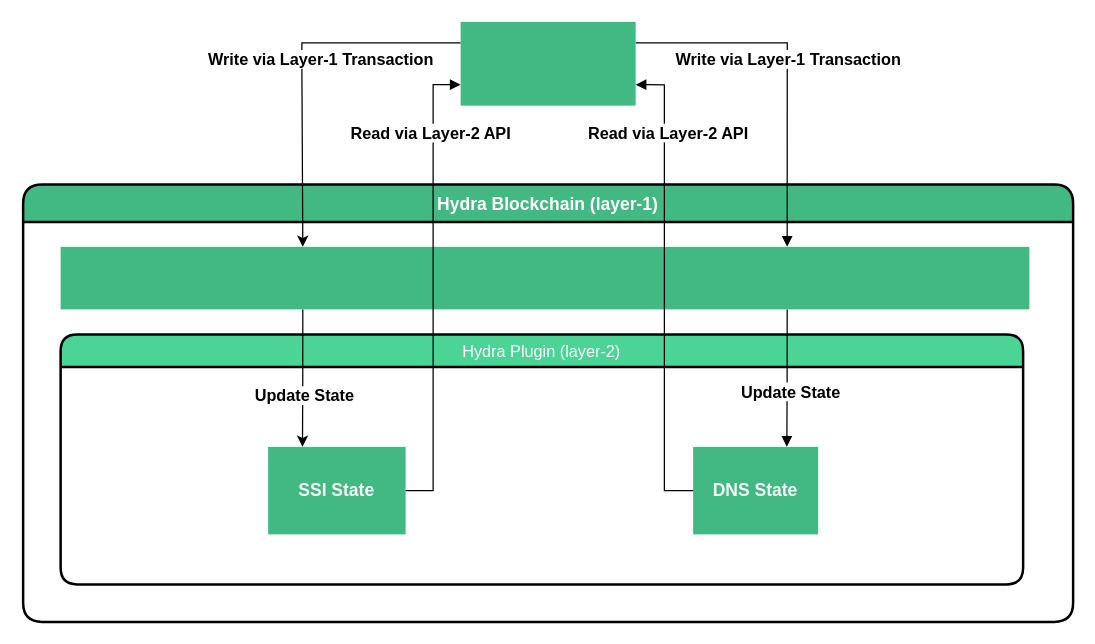
Some shapes in this 1095 by 644 pixel diagram are drawn without their labels. The shapes that lost their labels are listed below. From the top down, each one's centre as x and y in pixels, then its label:
At [547,63]: "IOP SDK".
At [544,277]: "Layer-1 Consensus".
